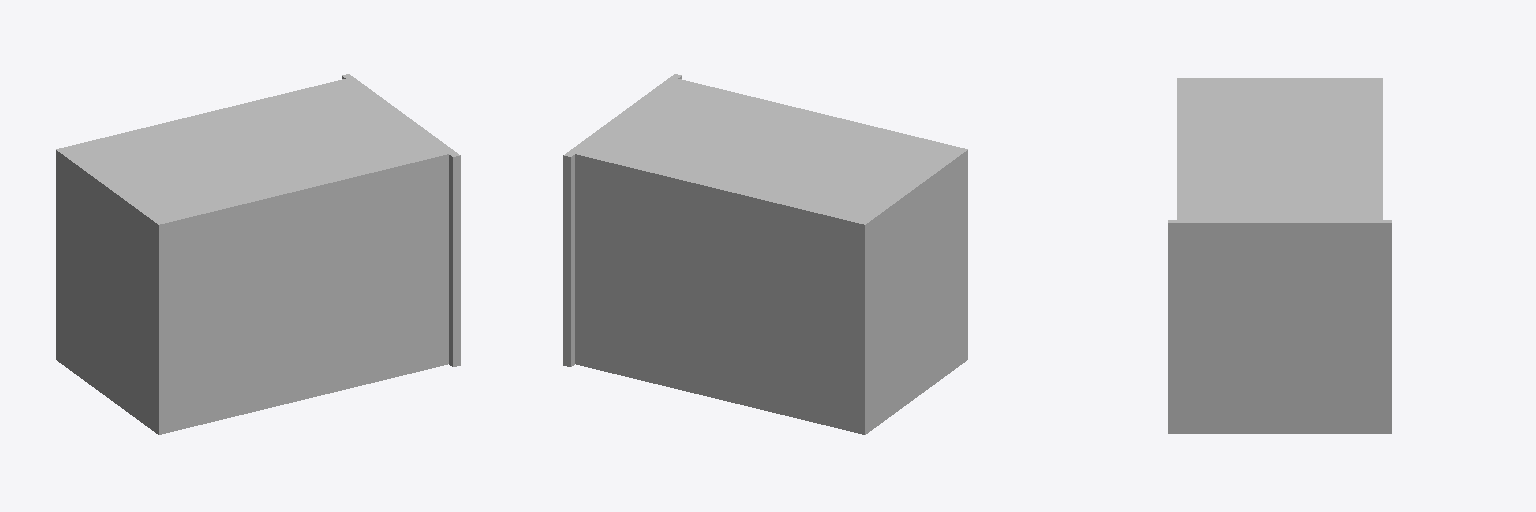
The model's file is (04) BladeSSRtemc7000.obj.
3 renders of one model, left to right at view 1: azimuth 30°, elevation 25°; view 2: azimuth 150°, elevation 25°; view 3: azimuth 270°, elevation 25°, orthographic.
Visible parts, largest first — view 1: Cube.001; view 2: Cube.001; view 3: Cube.001.
Part boxes in pixels (x1,y1,x2,y2): Cube.001: (56, 74, 460, 434); Cube.001: (563, 74, 967, 434); Cube.001: (1168, 78, 1391, 433).
Size of the model in its own units: 0.8 by 0.54 by 0.52.